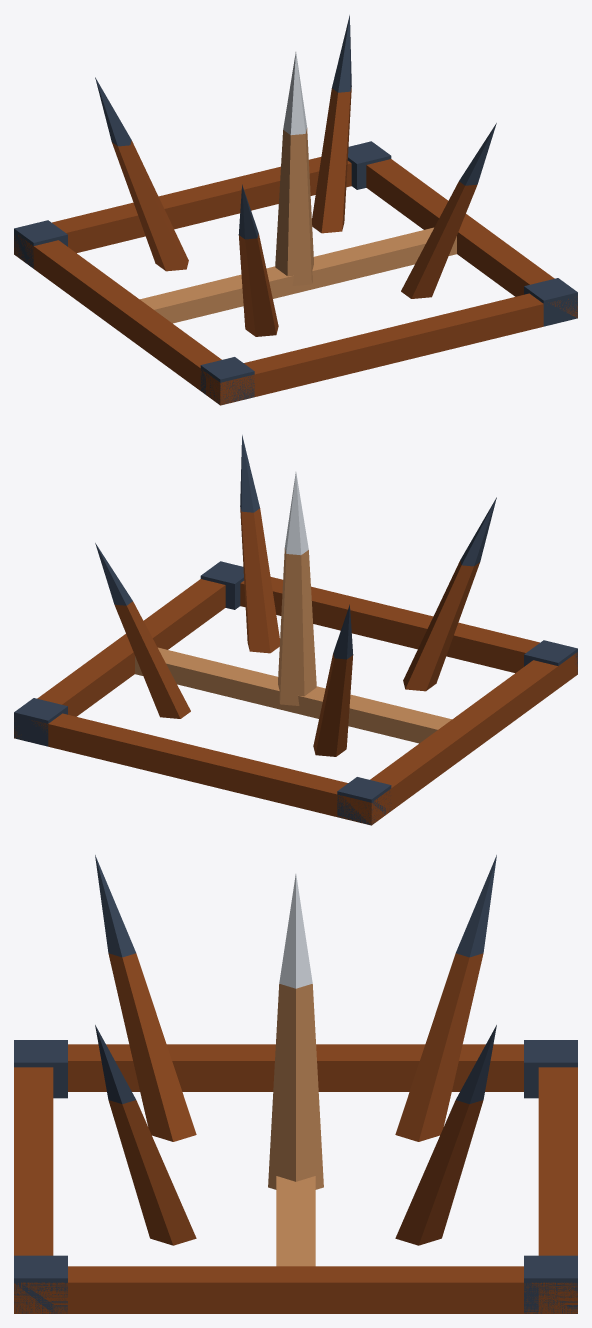
File: spike_trap.fbx
3 views of the same model, one above another, from view 1: azimuth 30°, elevation 25°; view 2: azimuth 150°, elevation 25°; view 3: azimuth 270°, elevation 25° (orthographic). The views are drawn at different scales.
Parts seen in each view (by area): view 1: SpikeTrap; view 2: SpikeTrap; view 3: SpikeTrap.
Part boxes in pixels (box(x1,y1,x2,y2)): SpikeTrap: box(14, 15, 577, 405); SpikeTrap: box(14, 435, 577, 825); SpikeTrap: box(14, 855, 577, 1313).
Bounding box in the file's own units: 2.3 × 1.45 × 2.3.
